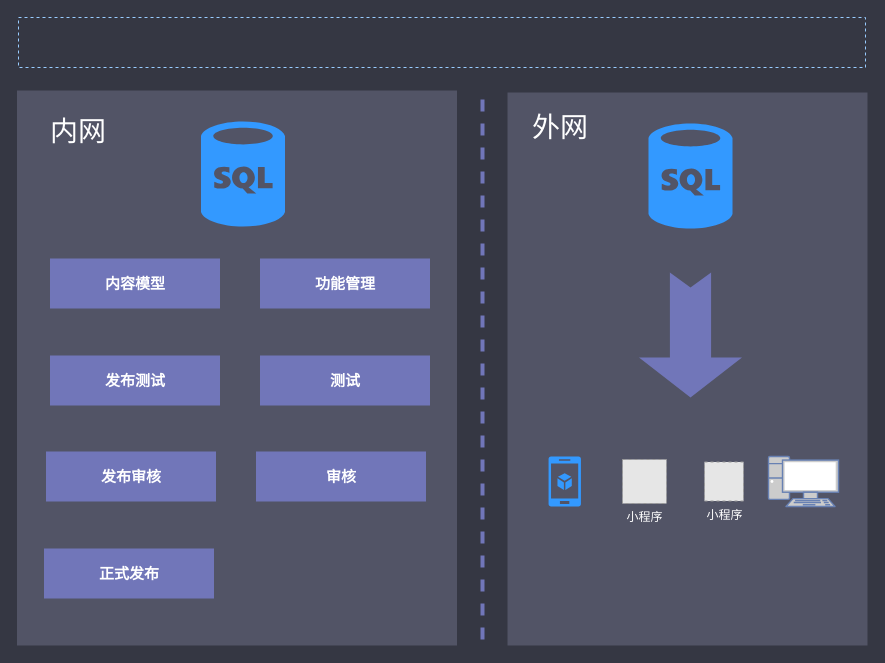
Some shapes in this 885 by 663 pixel diagram are drawn without their labels. Grey dashed boxes stand in for pictures. The shapes that lost their labels are listed below. From the top down, each one's centre as x and y in pixels, then its label:
At point 442,42: "HCMS多环境".
At point 690,334: "API".
At point 564,481: "手机".
At point 803,481: "PC".
